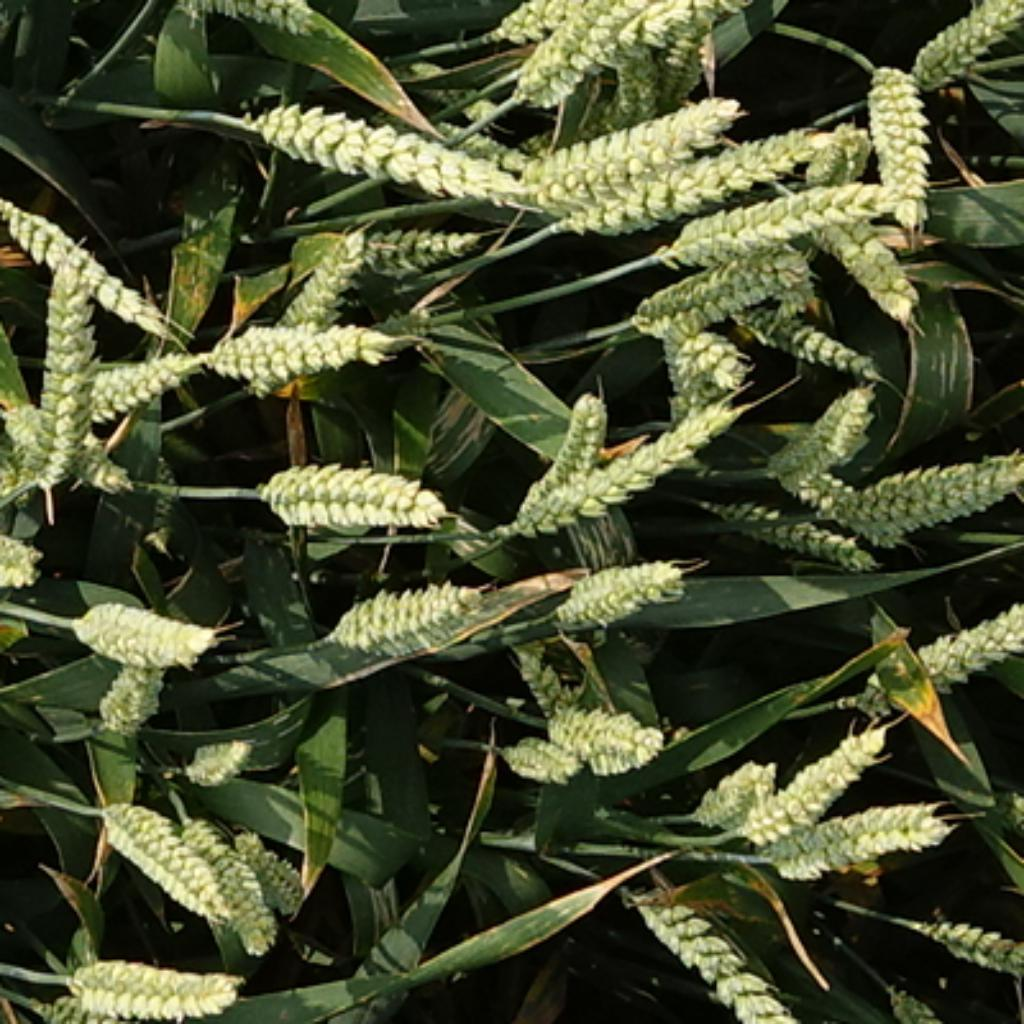0-0: (512, 391, 737, 540), (565, 112, 829, 238), (248, 92, 537, 207), (527, 94, 752, 230), (0, 186, 178, 342), (829, 583, 1024, 724), (622, 870, 798, 1024), (248, 217, 384, 404), (729, 711, 896, 852), (17, 250, 97, 499), (744, 788, 960, 880), (483, 0, 791, 64), (829, 440, 1024, 540), (514, 0, 675, 117), (92, 796, 235, 926), (245, 445, 458, 529), (501, 381, 622, 524), (0, 394, 148, 504), (181, 811, 291, 957), (61, 942, 263, 1021), (317, 568, 491, 657), (803, 186, 921, 314), (197, 304, 381, 384), (624, 245, 819, 320), (616, 0, 819, 69), (757, 368, 880, 478), (704, 488, 878, 565), (532, 701, 683, 788), (665, 184, 847, 253), (64, 586, 220, 665), (547, 542, 691, 624), (739, 289, 880, 371), (862, 58, 936, 207), (903, 0, 1024, 84), (778, 468, 906, 545), (76, 335, 189, 422), (642, 307, 755, 391), (417, 107, 542, 181), (691, 120, 819, 189), (235, 821, 320, 924), (345, 215, 483, 276), (686, 747, 783, 826), (89, 642, 176, 727), (491, 716, 601, 783), (919, 908, 1024, 975), (614, 40, 675, 151), (660, 12, 727, 112), (138, 0, 317, 35), (652, 327, 711, 427), (512, 650, 588, 724), (360, 304, 448, 363), (798, 112, 867, 179), (179, 727, 256, 785), (875, 970, 942, 1024), (35, 993, 148, 1024), (0, 523, 40, 597)
